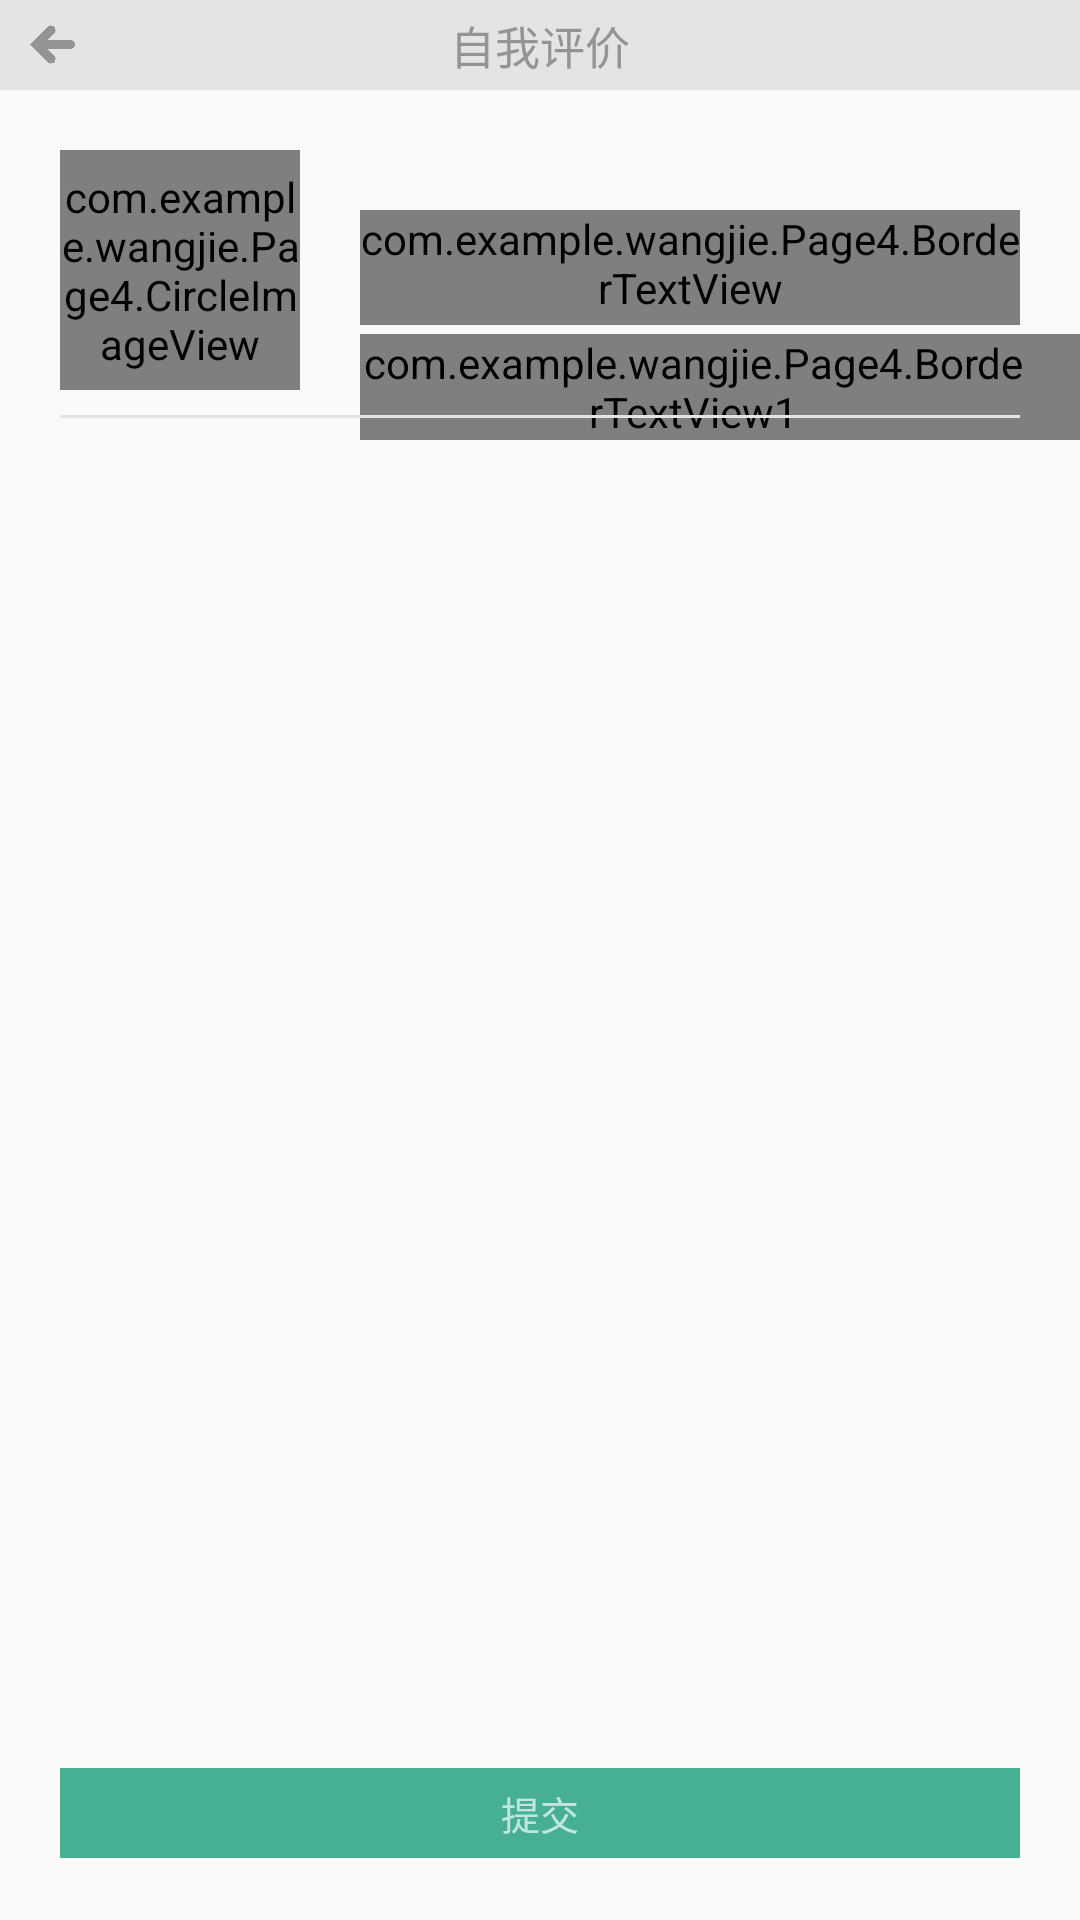

Screen size 1080px x 1920px. Icon name, then its box in pixels as (x1, y1, x2, y2):
leftarray: (30, 25, 75, 64)
